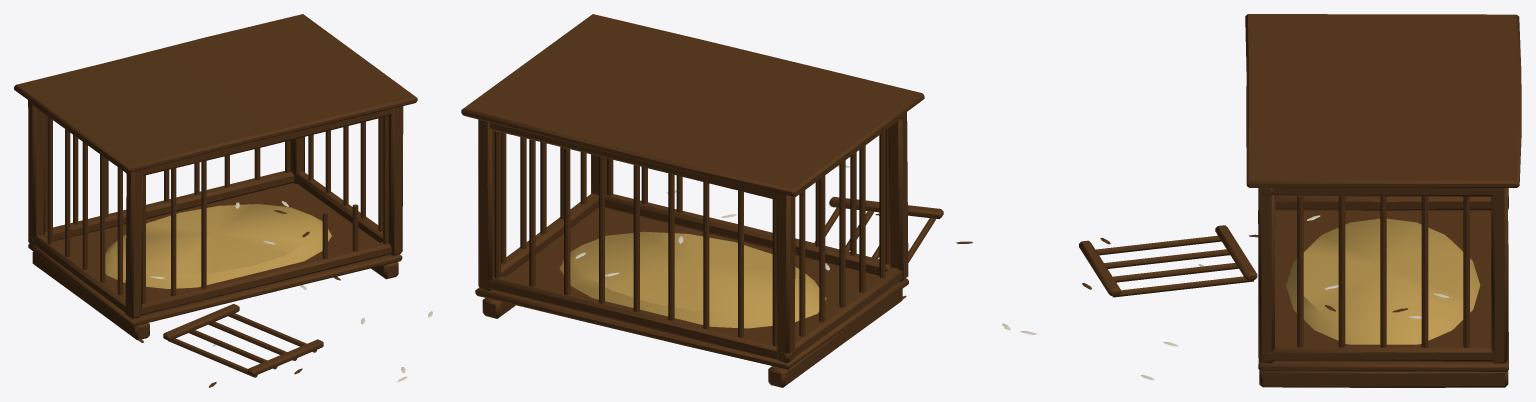
File: huehnerkaefig_kaputt.glb
3 renders of one model, left to right at view 1: azimuth 30°, elevation 25°; view 2: azimuth 150°, elevation 25°; view 3: azimuth 270°, elevation 25°, orthographic. The views are drawn at different scales.
Visible parts, largest first — view 1: huehnerkaefig_kaputt; view 2: huehnerkaefig_kaputt; view 3: huehnerkaefig_kaputt.
Part boxes in pixels (<box>): huehnerkaefig_kaputt: <box>14,14,432,387</box>; huehnerkaefig_kaputt: <box>461,14,972,387</box>; huehnerkaefig_kaputt: <box>1002,14,1521,387</box>.
Size of the model in its own units: 0.9606 by 0.5749 by 1.25.
